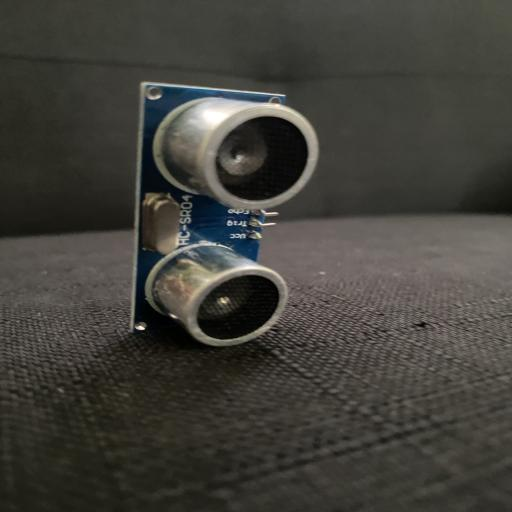Ultrasonic Sensor: (125, 80, 319, 348)
